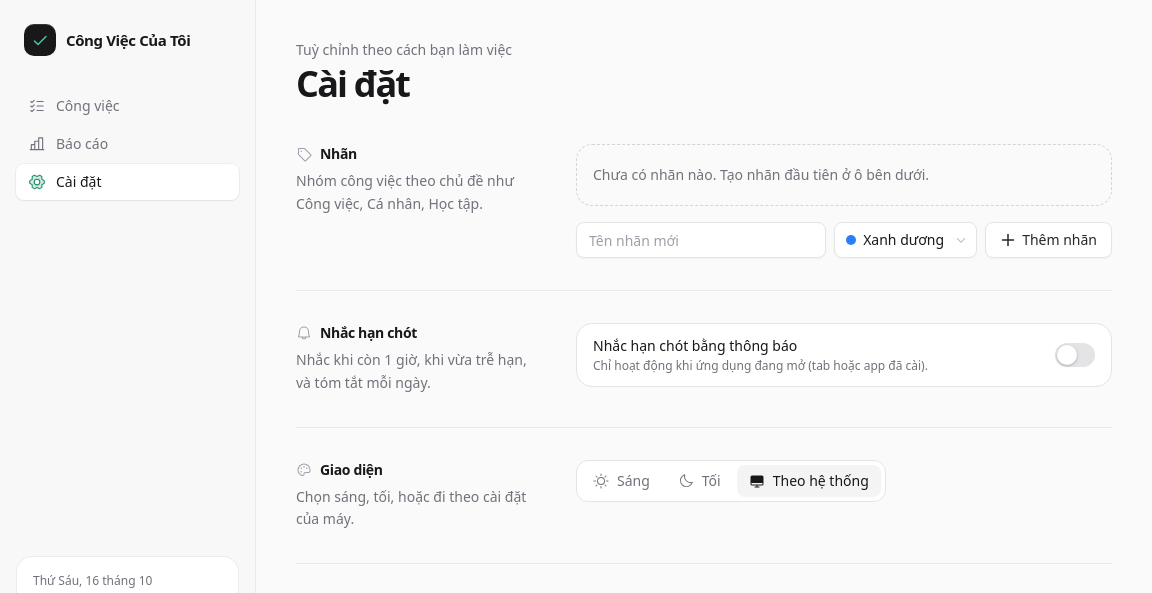
Test: trang Cài đặt › thêm nhãn; trùng tên thì báo lỗi
Type "Công việc" into the field labelled "Tên nhãn mới".
click(701, 240); type("Công việc")  # box x1=576 y1=222 x2=826 y2=258
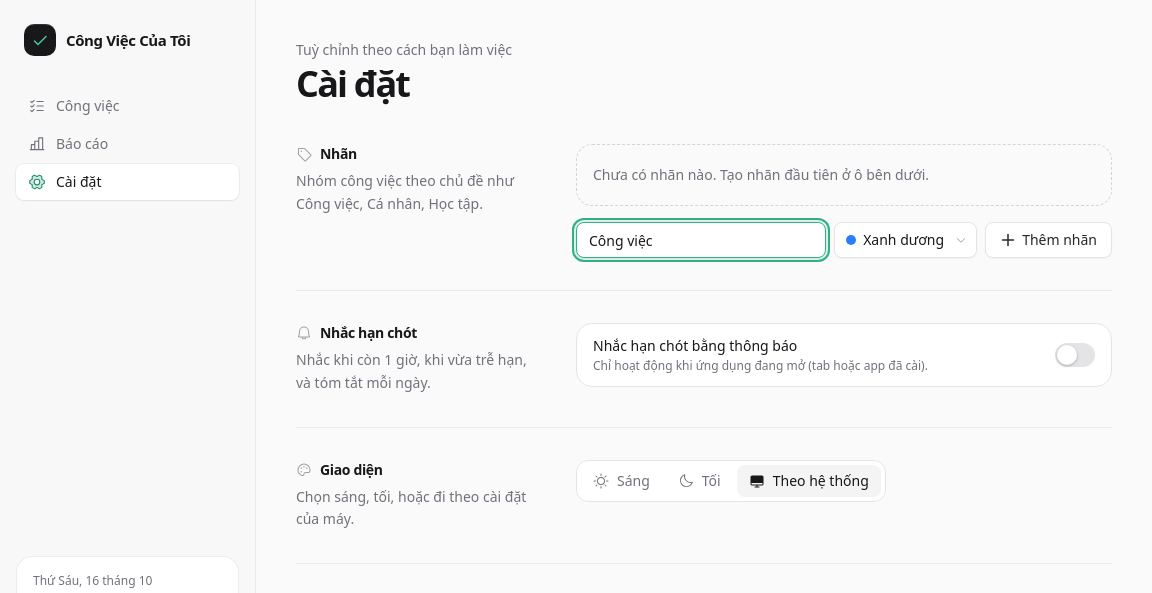
Select "Xanh lá" in the dropdown named "Màu nhãn mới" at (906, 240), box x1=834 y1=222 x2=977 y2=258
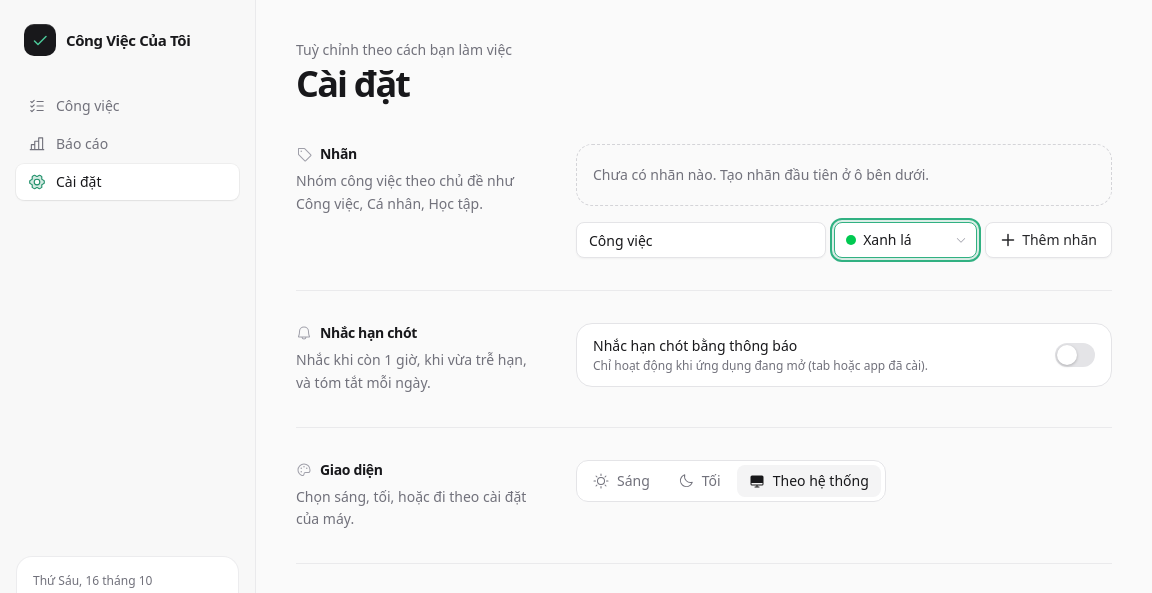
Click the button "Thêm nhãn".
click(1049, 240)  # box x1=985 y1=222 x2=1112 y2=258
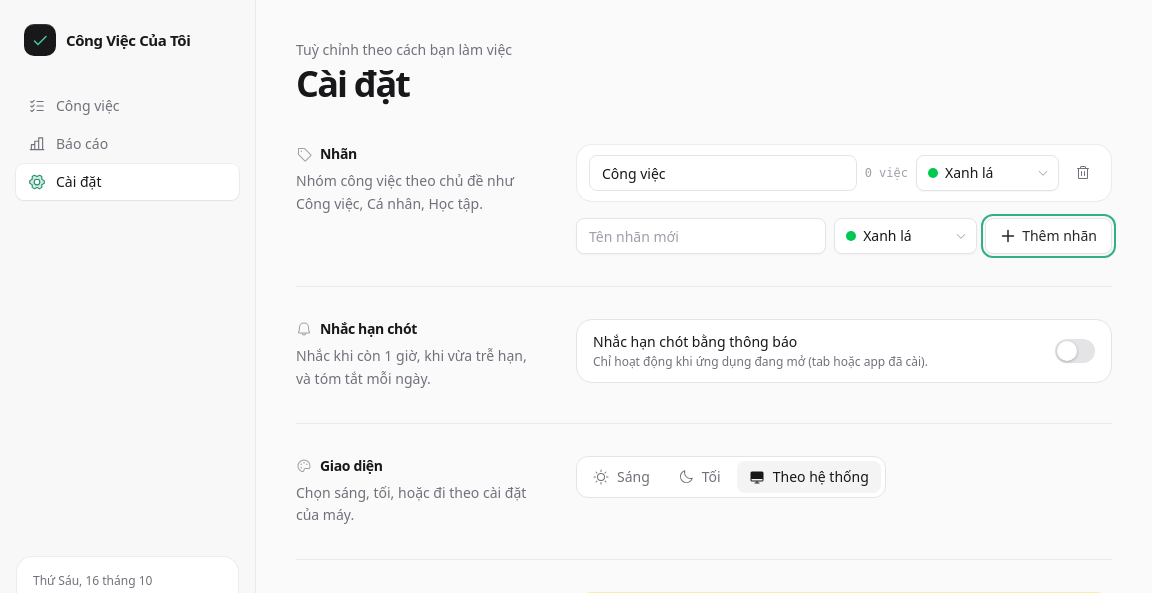
Expected: the field named "Tên nhãn Công việc" holds "Công việc", x1=589 y1=155 x2=857 y2=191
Type "công VIỆC" into the field labelled "Tên nhãn mới".
click(701, 236); type("công VIỆC")  # box x1=576 y1=218 x2=826 y2=254
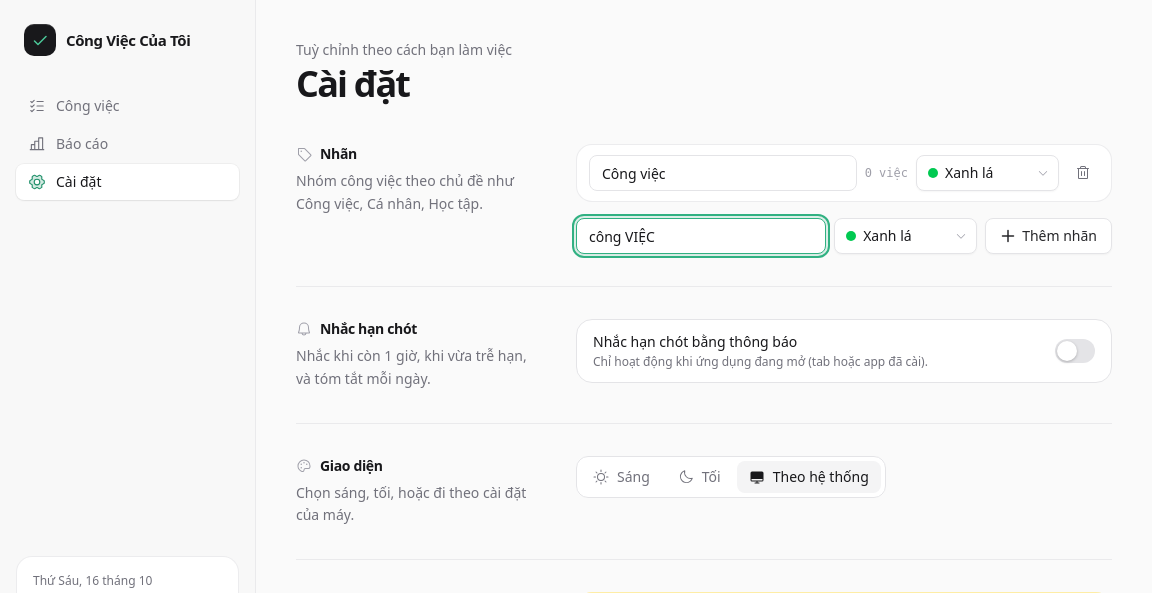
Click the button "Thêm nhãn".
click(1049, 236)  # box x1=985 y1=218 x2=1112 y2=254
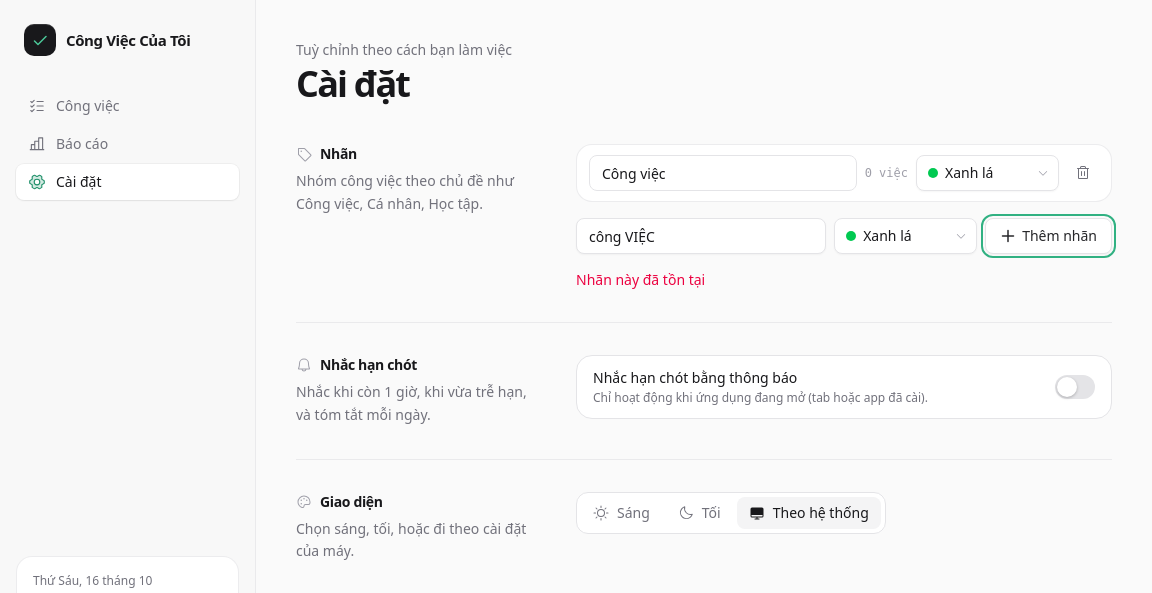
Expected: the text "Nhãn này đã tồn tại" is shown, x1=576 y1=270 x2=705 y2=289
